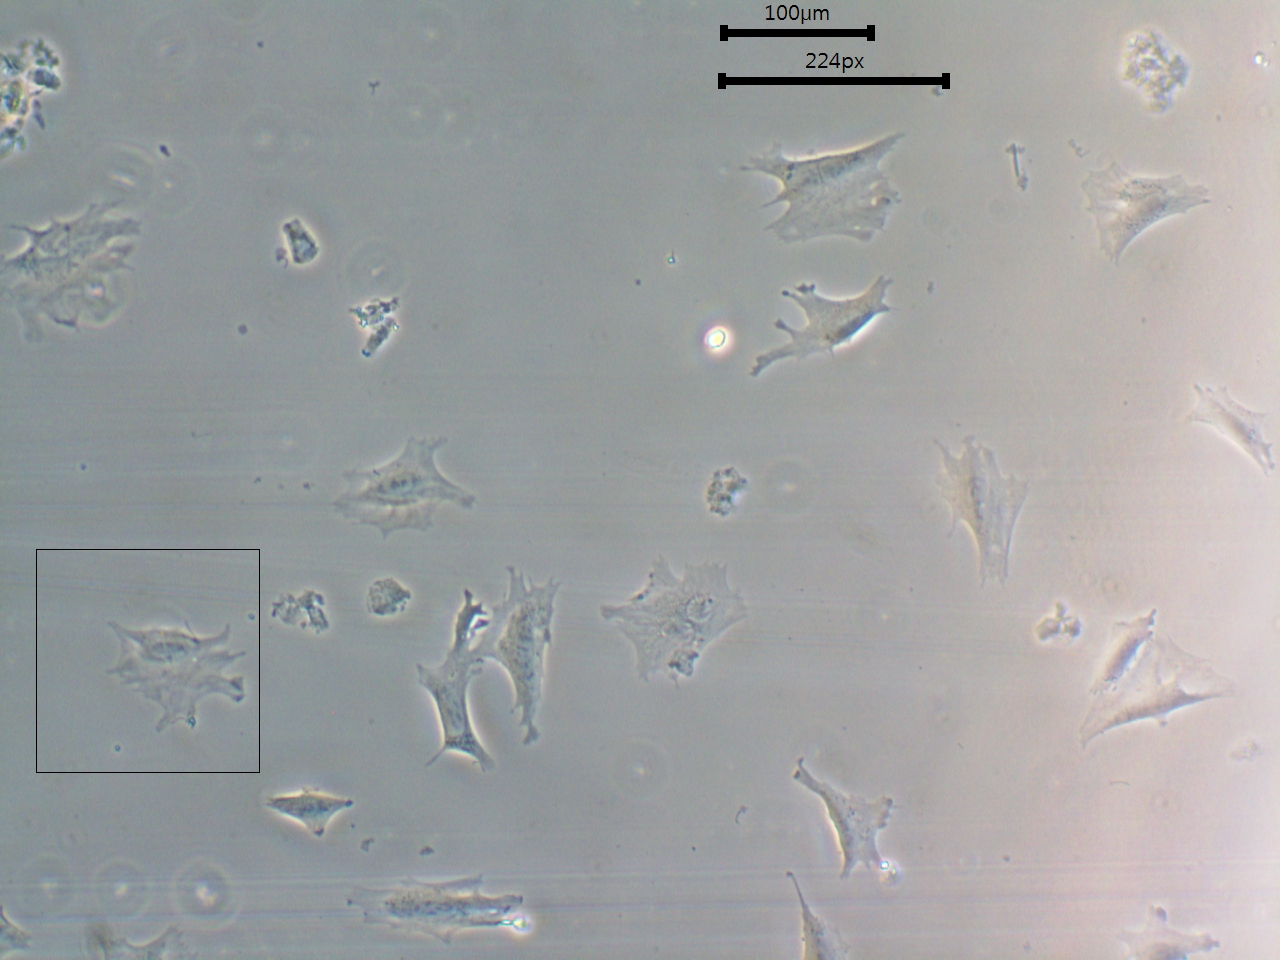dividing: (601, 552, 752, 688), (742, 134, 906, 240), (481, 564, 562, 749)
large-spread: (1, 197, 155, 351), (103, 611, 246, 739)
medium-polygonal: (745, 274, 911, 382), (327, 434, 484, 542), (338, 869, 548, 946), (412, 585, 494, 781), (785, 751, 902, 886)
medium-spread: (921, 428, 1035, 590), (1077, 160, 1221, 269)
small-polygonal: (259, 784, 357, 847)
